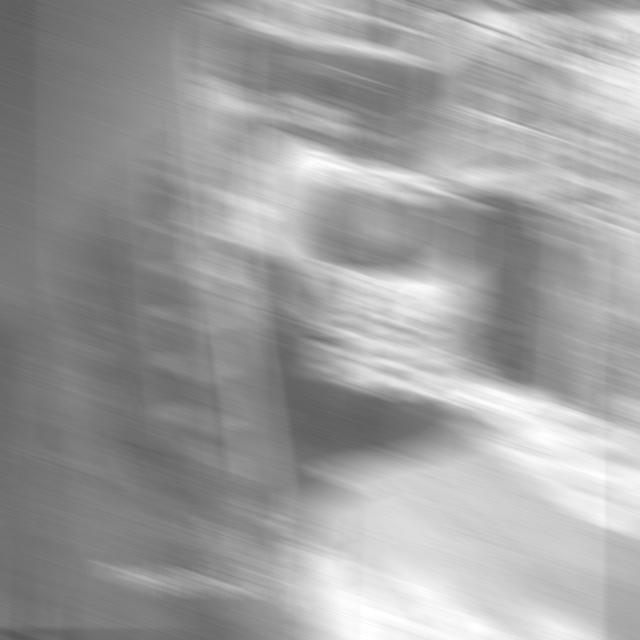cement_mixer_truck: (229, 130, 478, 440)
